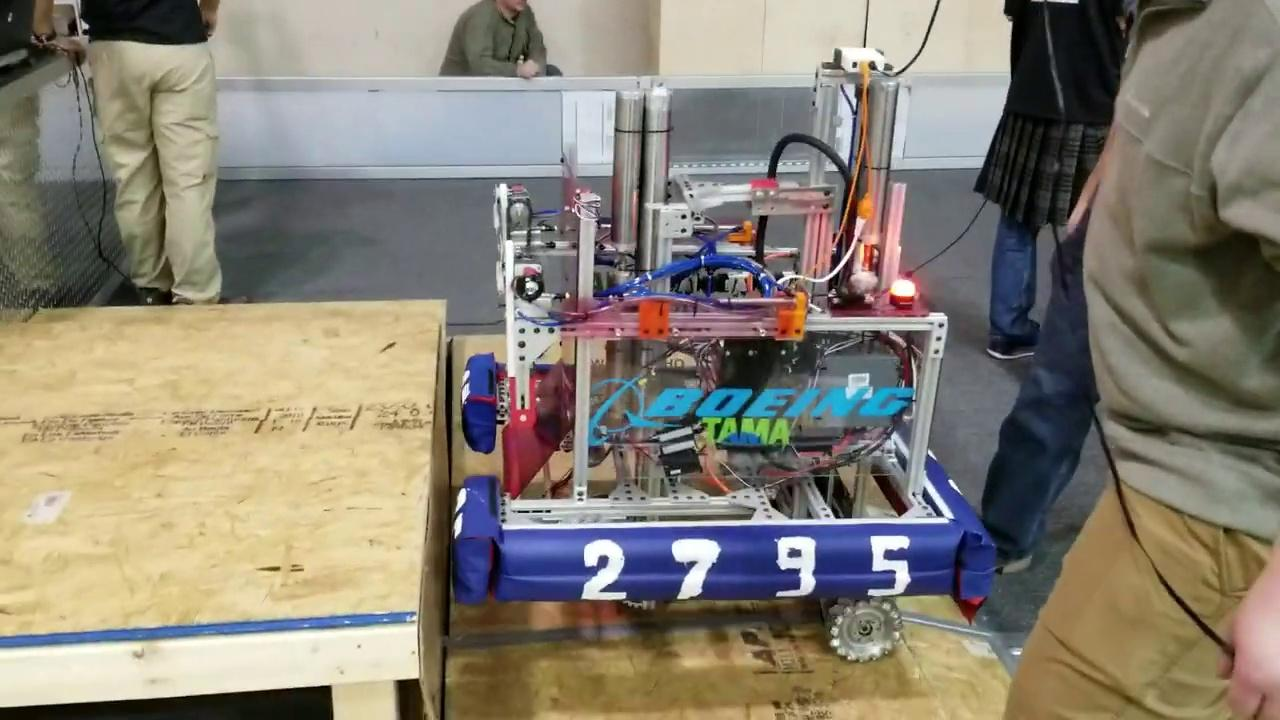robot: (449, 45, 1003, 610)
